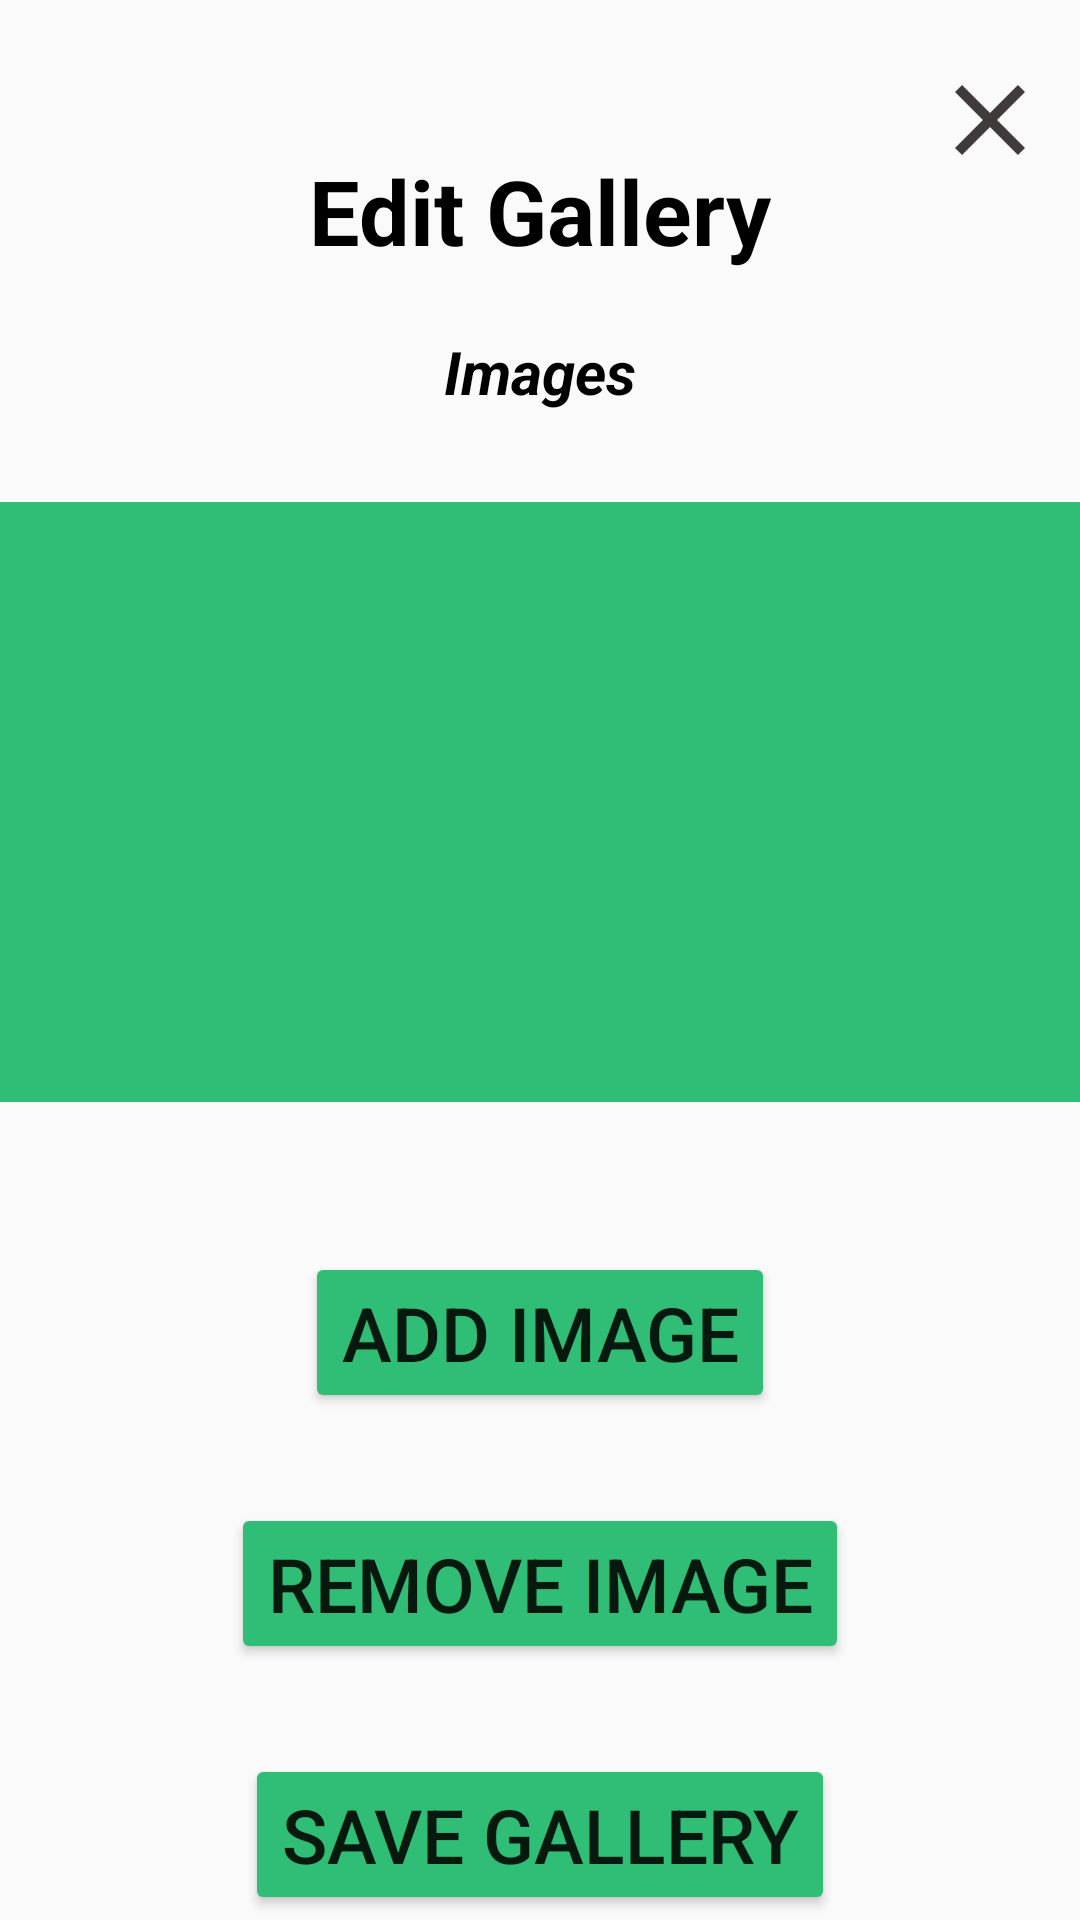

Icons on this 1080*1920 Android screen, each with its box as (x1, y1, x2, y2):
close: (955, 85, 1025, 155)
